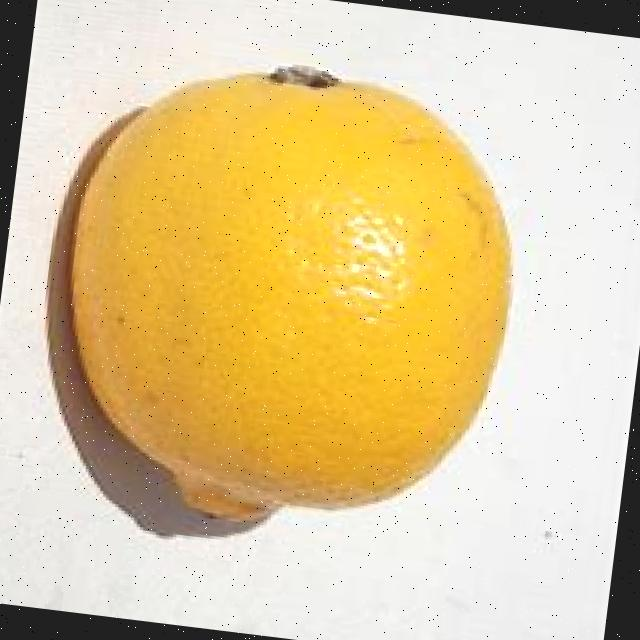Ripe: (33, 37, 544, 567)
